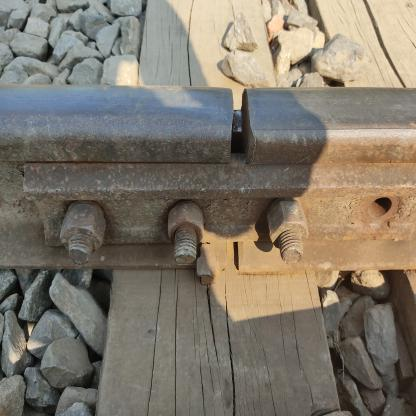Defective 2: (208, 66, 290, 182)
Defective 3: (44, 167, 415, 302)
